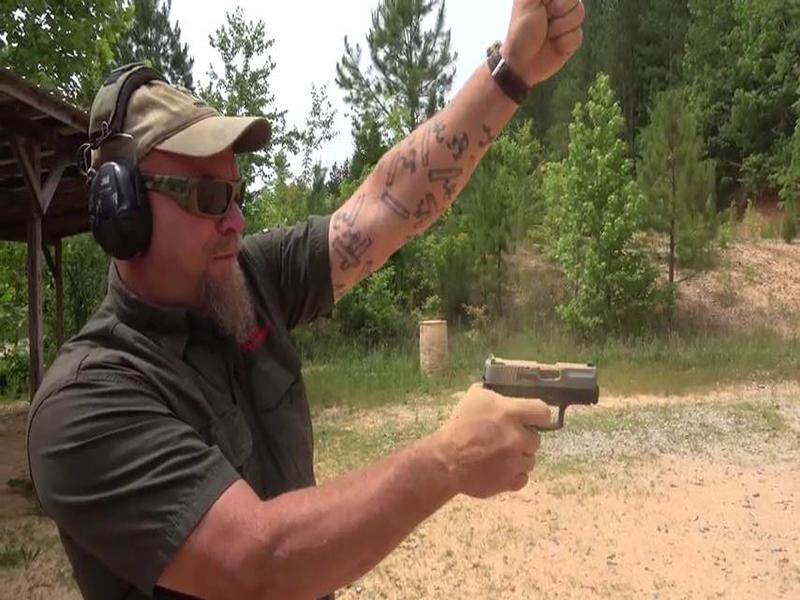Pistola: (467, 333, 620, 484)
